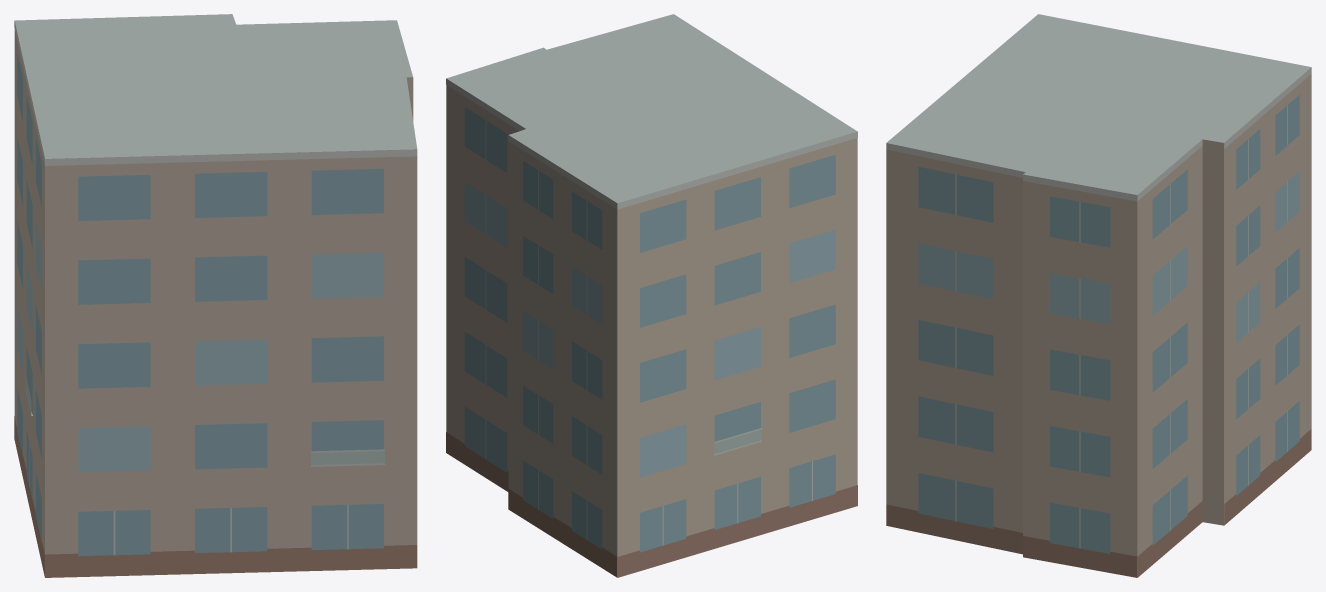
File: survey-upis-32846970.glb
3 renders of one model, left to right at view 1: azimuth 30°, elevation 25°; view 2: azimuth 150°, elevation 25°; view 3: azimuth 270°, elevation 25°, orthographic. The views are drawn at different scales.
Visible parts, largest first — view 1: survey-upis-32846970.tmp; view 2: survey-upis-32846970.tmp; view 3: survey-upis-32846970.tmp.
Boxes of the visible parts, left/top/right/bottom form: survey-upis-32846970.tmp: left=14, top=14, right=417, bottom=577; survey-upis-32846970.tmp: left=446, top=14, right=857, bottom=577; survey-upis-32846970.tmp: left=886, top=14, right=1311, bottom=577.
Size of the model in its own units: 14.82 by 14.6 by 14.72.
